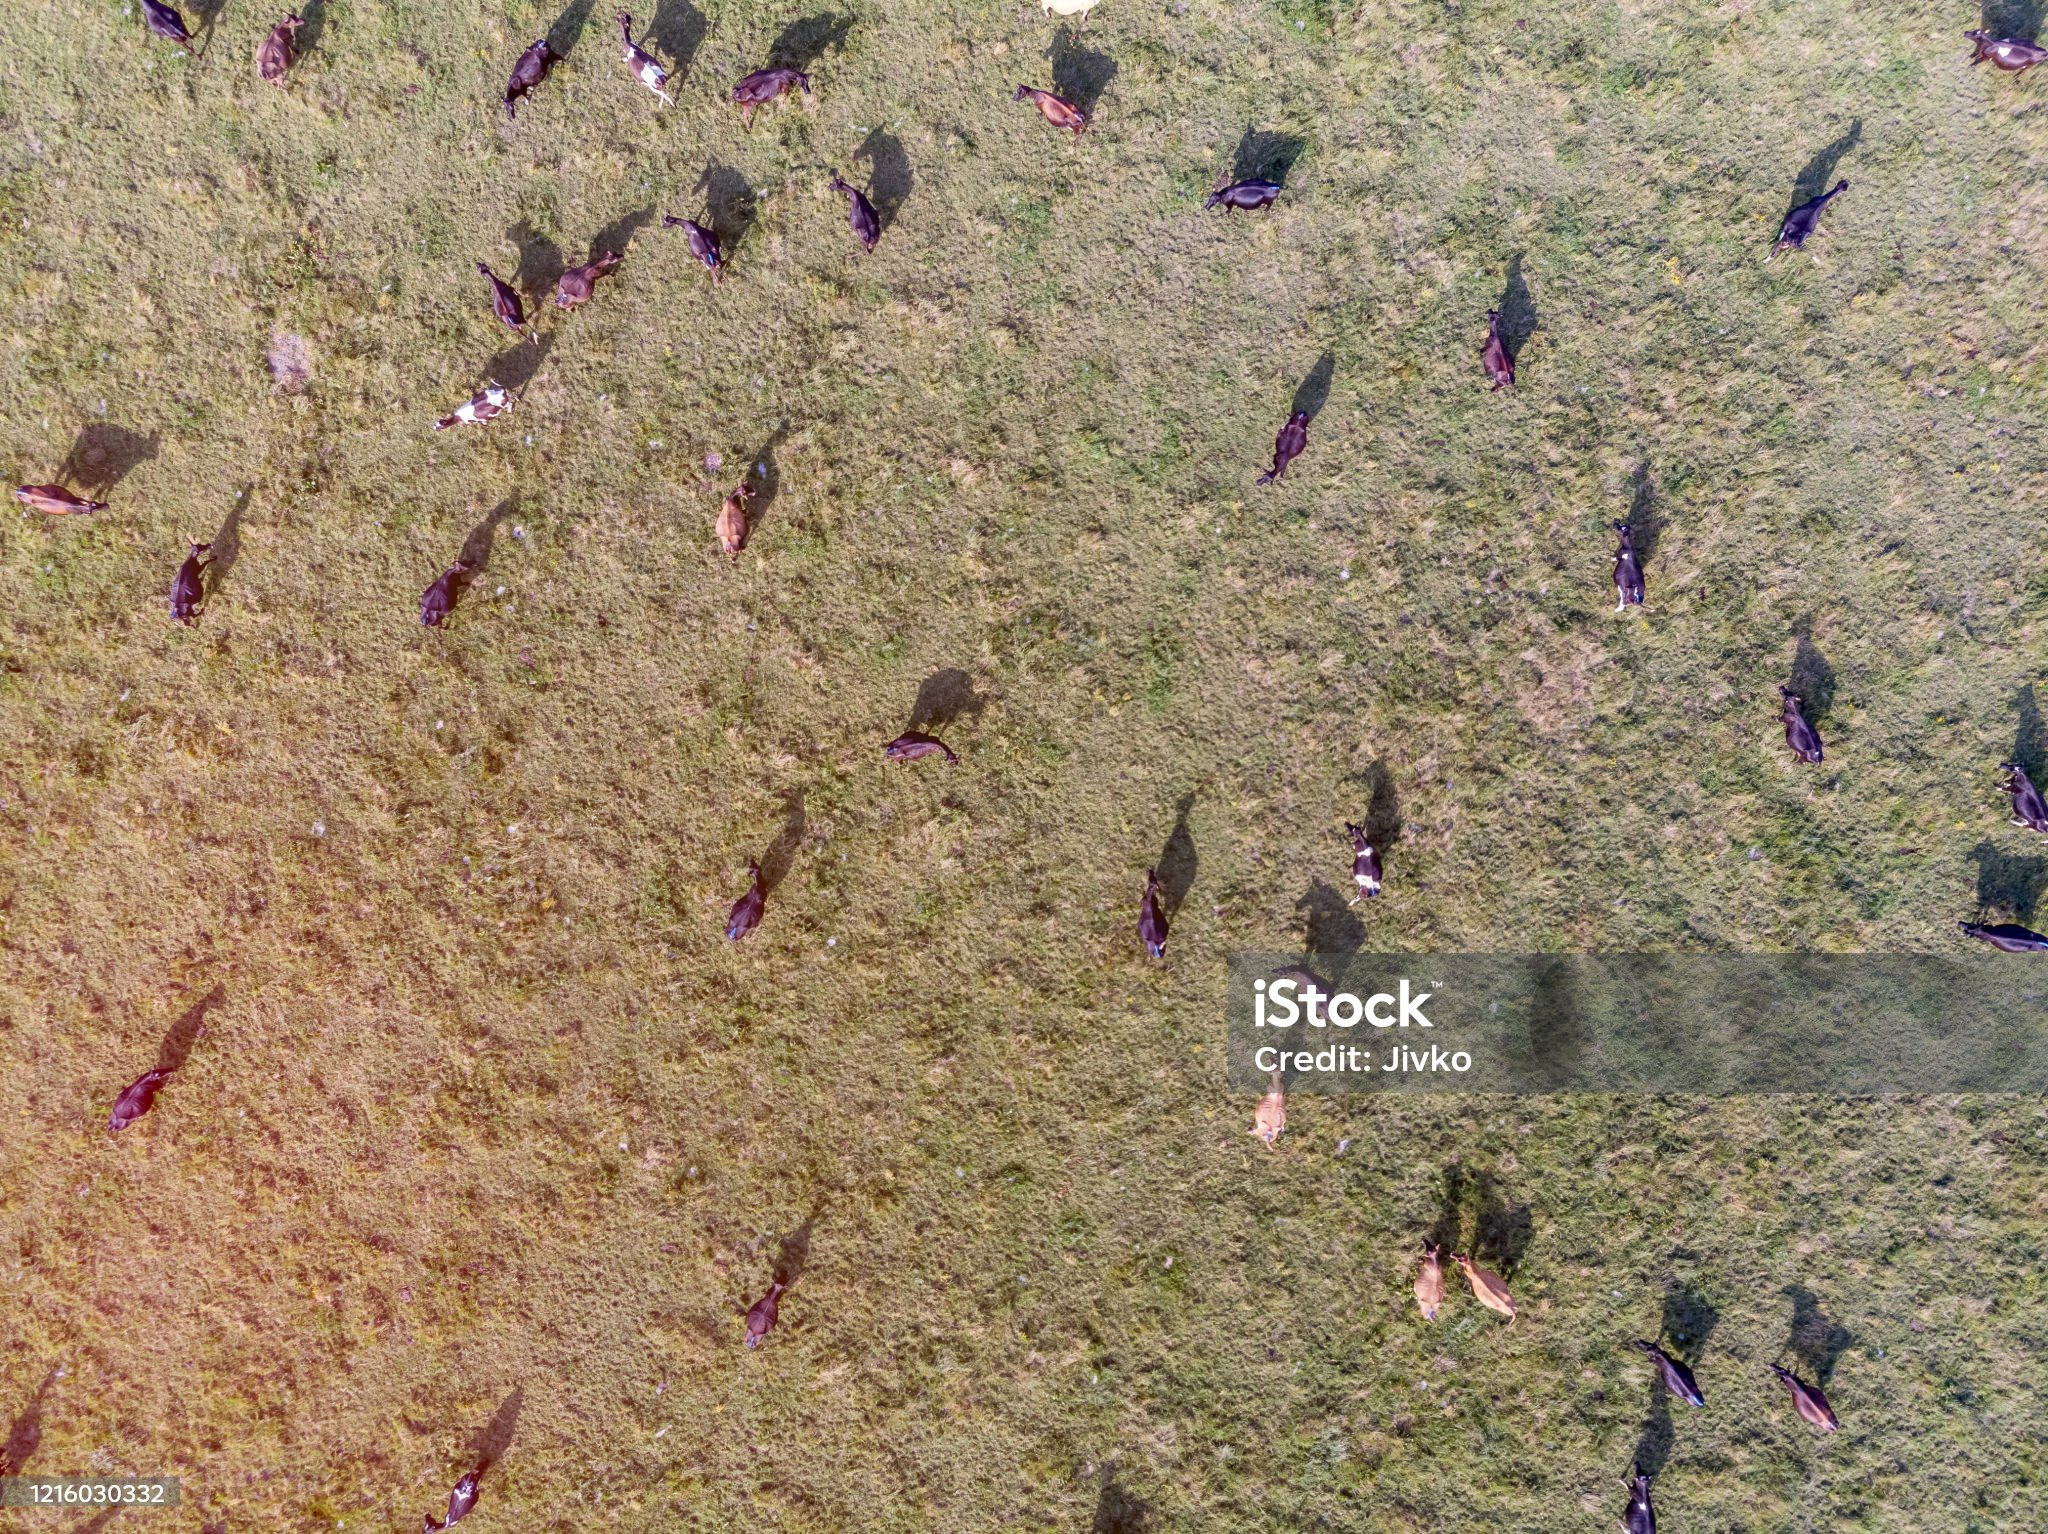cattle: (1624, 1321, 1714, 1421), (611, 6, 693, 110), (1769, 164, 1856, 259), (872, 719, 983, 785), (453, 251, 540, 335), (819, 156, 893, 253), (1766, 1360, 1847, 1449), (416, 375, 516, 446), (720, 60, 823, 127), (651, 205, 735, 285), (160, 530, 230, 625), (715, 1273, 802, 1349), (1128, 869, 1186, 981), (1761, 674, 1832, 765), (1594, 514, 1658, 614), (5, 462, 113, 522), (699, 474, 770, 561), (1402, 1234, 1457, 1345), (546, 245, 628, 319), (237, 11, 321, 84), (1337, 811, 1395, 910), (1951, 901, 2048, 959), (1200, 168, 1286, 232), (1461, 1249, 1526, 1334), (413, 556, 483, 633), (1988, 748, 2048, 840), (1262, 396, 1323, 482), (1961, 24, 2048, 84), (1470, 303, 1524, 395), (1603, 1458, 1669, 1534), (491, 39, 570, 102), (719, 867, 778, 947), (102, 1063, 180, 1121), (1014, 81, 1094, 137), (129, 2, 205, 56), (1250, 1068, 1292, 1160), (421, 1470, 488, 1526), (1034, 2, 1107, 35)
